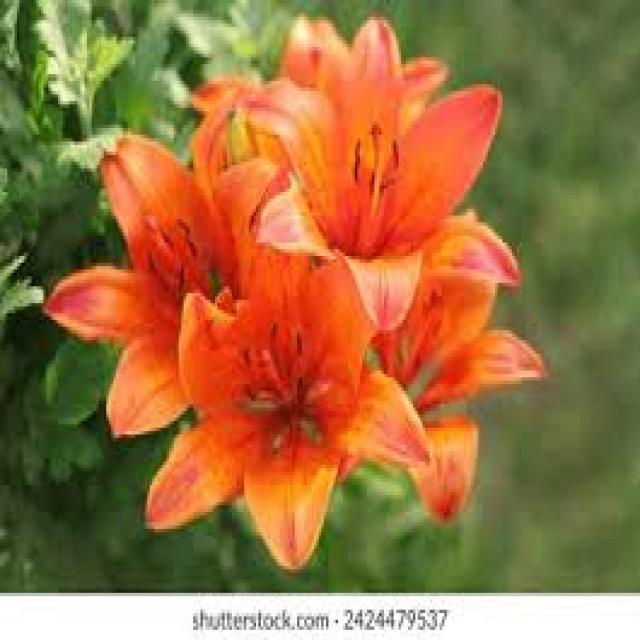lily: (171, 249, 384, 573)
